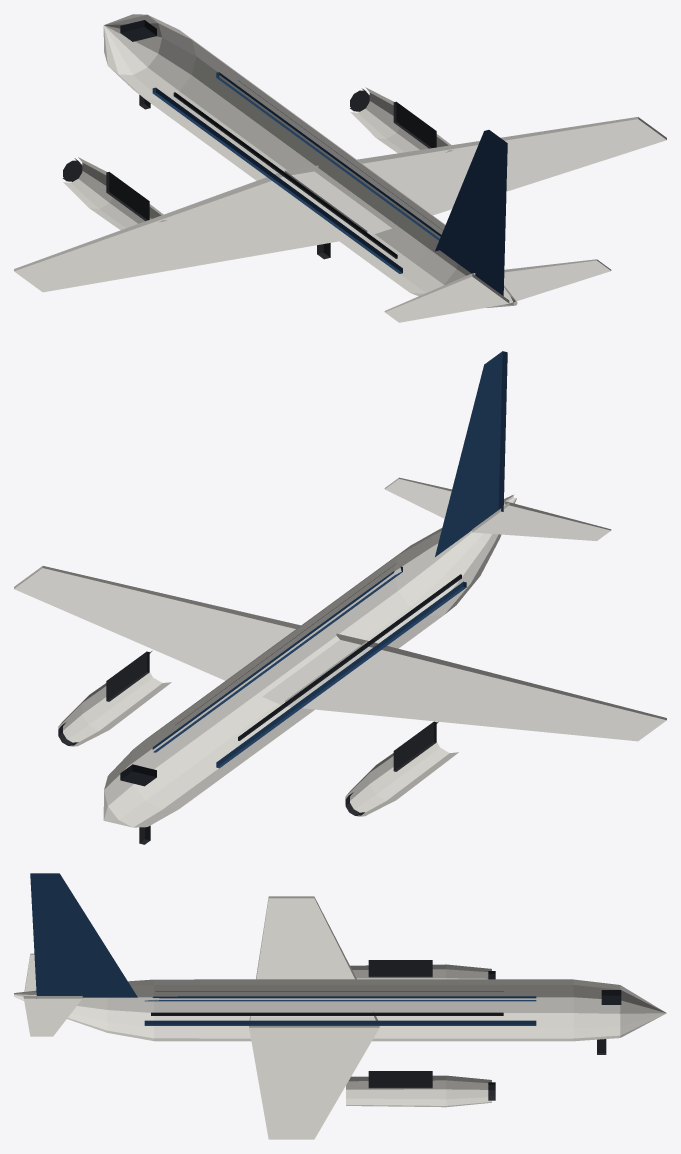
Rendered from narrowbody.glb.
3 renders of one model, top to bottom at view 1: azimuth 30°, elevation 25°; view 2: azimuth 150°, elevation 25°; view 3: azimuth 270°, elevation 25°, orthographic. The views are drawn at different scales.
Size of the model in its own units: 35 by 12.14 by 40.
